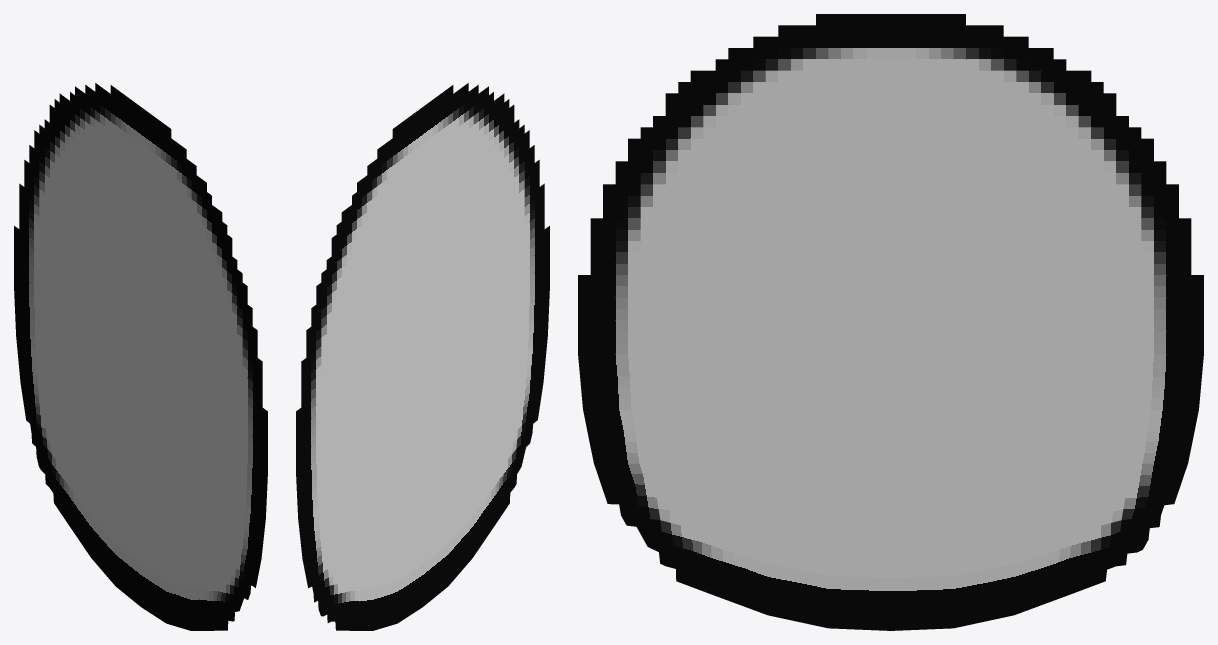
File: baseGrid_inair.fbx
The picture shows the model from 3 angles, left to right: view 1: azimuth 30°, elevation 25°; view 2: azimuth 150°, elevation 25°; view 3: azimuth 270°, elevation 25°; orthographic projection. The views are drawn at different scales.
Parts seen in each view (by area): view 1: pPlane1; view 2: pPlane1; view 3: pPlane1.
Boxes of the visible parts, x1,y1,x2,y2 form: pPlane1: (14,83,267,630); pPlane1: (296,83,549,630); pPlane1: (578,14,1203,630).
Bounding box in the file's own units: 2.38e-07 × 1.09 × 1.
